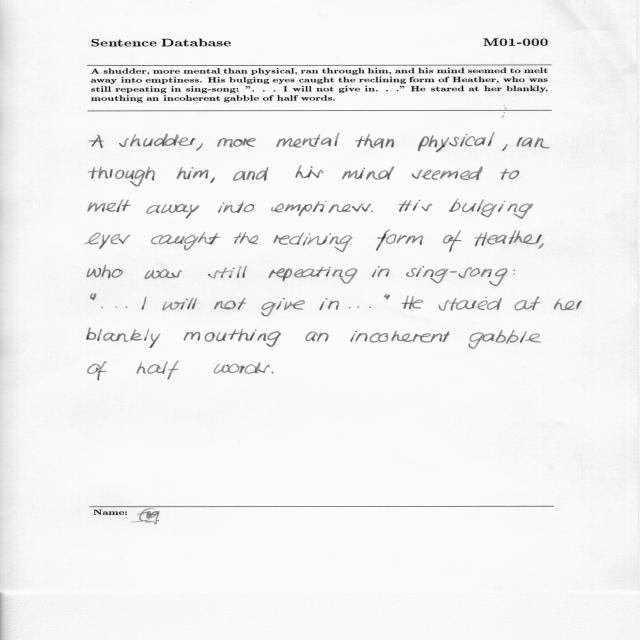word: (406, 266, 508, 286), (449, 199, 533, 219), (273, 233, 353, 253), (268, 267, 358, 284), (119, 133, 203, 151), (271, 201, 371, 216), (418, 133, 495, 152), (87, 328, 160, 348), (205, 329, 281, 347), (469, 330, 541, 349), (88, 167, 155, 187), (151, 232, 221, 250), (351, 331, 450, 343), (475, 230, 543, 246), (412, 167, 483, 181), (376, 230, 423, 251), (276, 133, 340, 147), (439, 297, 502, 311), (261, 298, 305, 317), (137, 361, 179, 380), (147, 204, 200, 219), (85, 232, 131, 249), (342, 166, 394, 180), (214, 362, 270, 374), (88, 200, 131, 213), (355, 134, 394, 148), (208, 266, 247, 279), (233, 167, 269, 181), (87, 266, 123, 279), (162, 298, 197, 311), (443, 230, 462, 252), (218, 202, 254, 213), (399, 200, 432, 212), (177, 167, 209, 179), (214, 298, 246, 310), (87, 361, 107, 380), (515, 296, 540, 311), (516, 137, 550, 148), (145, 269, 182, 279), (296, 166, 324, 178), (554, 299, 582, 311), (401, 296, 423, 310), (234, 232, 258, 244), (306, 331, 329, 342), (320, 298, 340, 310), (501, 169, 520, 180), (233, 138, 255, 147), (372, 267, 389, 278), (90, 135, 104, 148), (184, 332, 201, 341), (217, 138, 233, 147), (142, 297, 147, 310), (349, 307, 371, 309), (502, 144, 508, 151), (538, 243, 544, 249), (91, 294, 97, 300), (384, 294, 390, 300), (210, 177, 215, 183), (101, 307, 127, 308), (513, 270, 515, 275), (272, 372, 274, 374), (371, 211, 373, 212)
